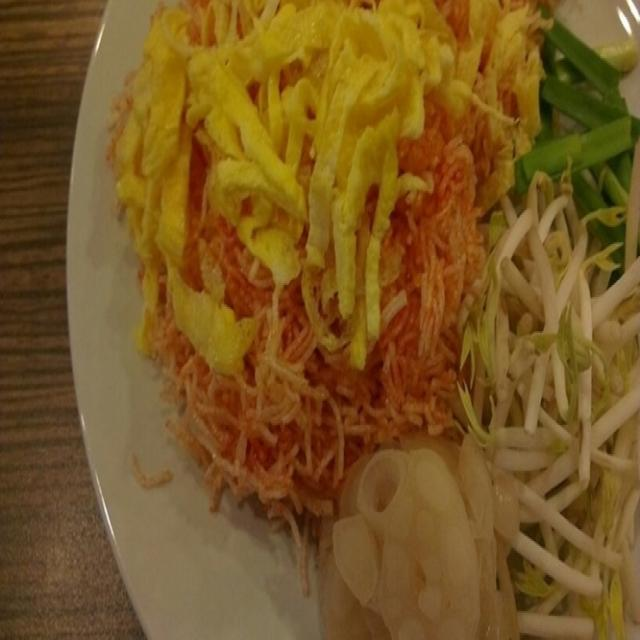面条主食: (100, 5, 594, 579)
